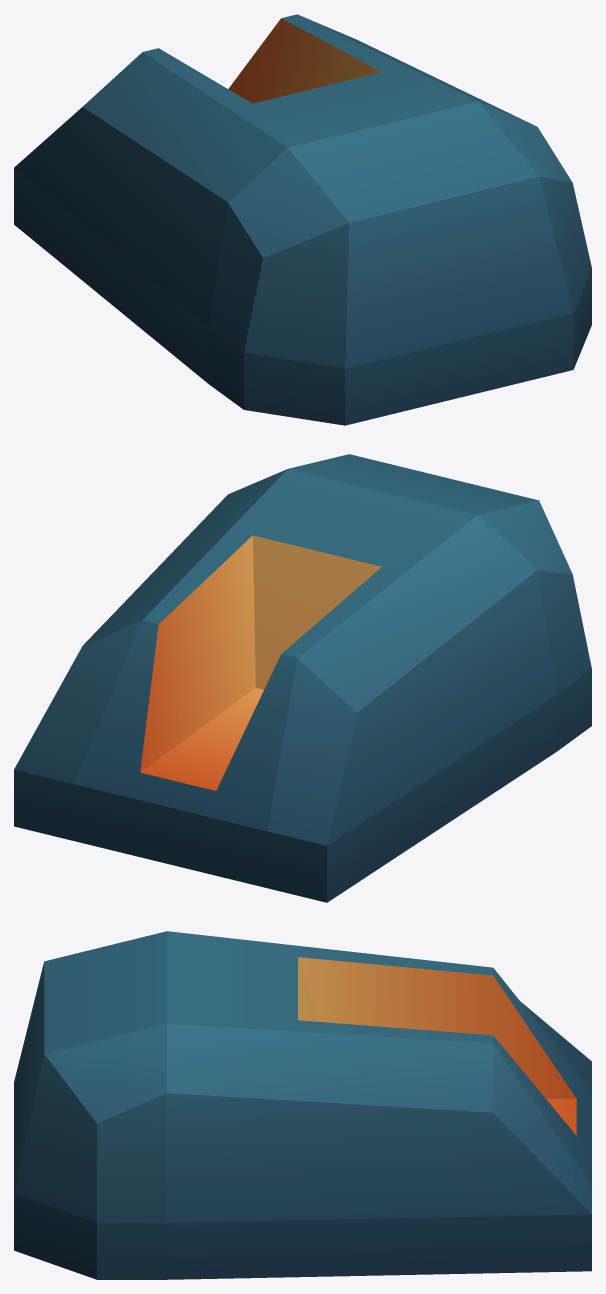
Rendered from heavy_mass_driver.glb.
3 renders of one model, top to bottom at view 1: azimuth 30°, elevation 25°; view 2: azimuth 150°, elevation 25°; view 3: azimuth 270°, elevation 25°, orthographic.
Parts seen in each view (by area): view 1: Cube; view 2: Cube; view 3: Cube.
Boxes of the visible parts, x1,y1,x2,y2 form: Cube: (14, 14, 591, 425); Cube: (14, 454, 591, 902); Cube: (14, 931, 591, 1279).
Bounding box in the file's own units: 2.46 × 1.47 × 3.53.
Materials: 1 (1 with a texture image).
